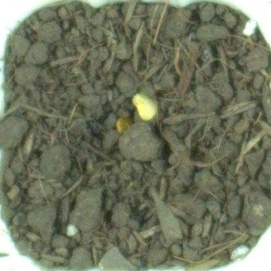pepper seed: (50, 29, 213, 153), (42, 43, 185, 183)
